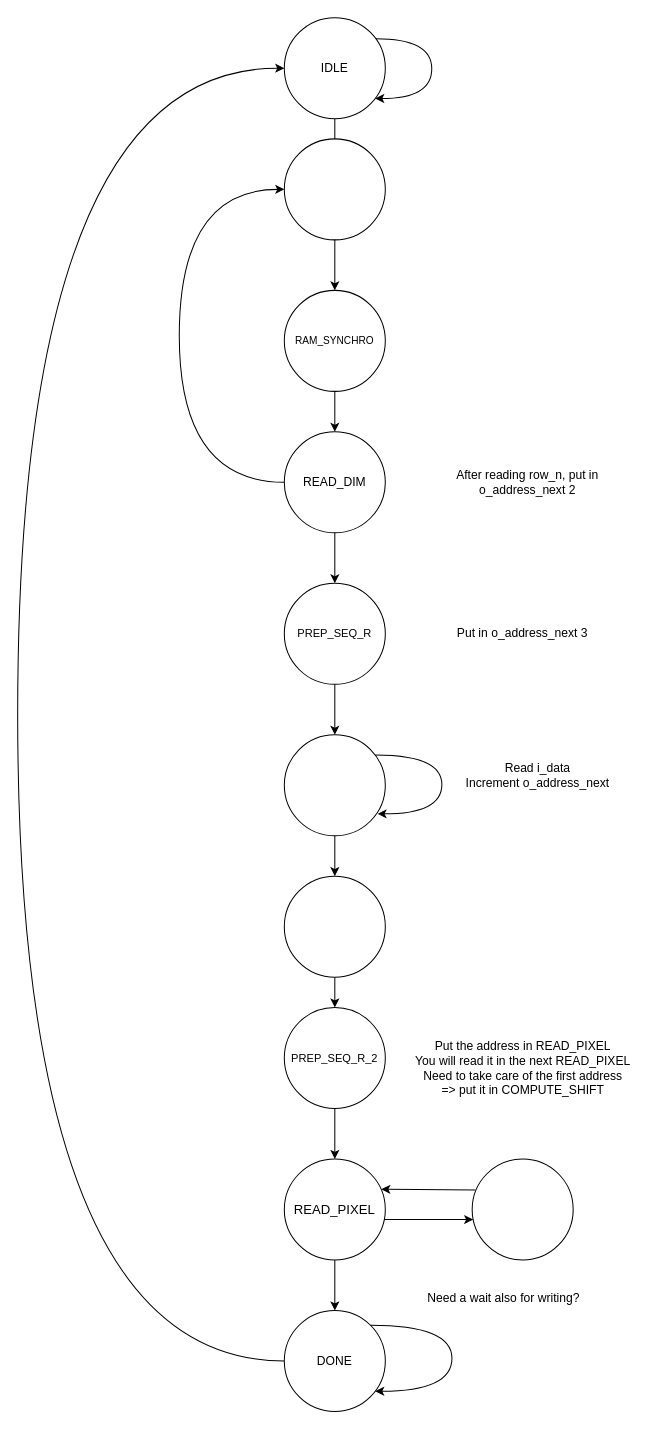
The diagram is 657 pixels wide and 1429 high, and some of its shapes have lost their labels. Each missing label, with the centre of its shape:
"ASK_DIM" goes at point (334, 189).
"COMPUTE_SHIFT" goes at point (334, 926).
"EQUALIZE_AND_WRITE" goes at point (522, 1209).
"SAVE_MAX_MIN" goes at point (334, 785).
